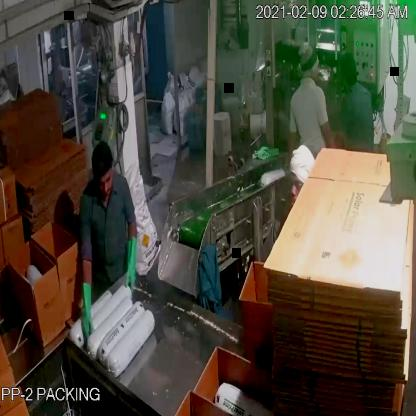glove: (72, 270, 100, 346), (119, 229, 147, 301)
